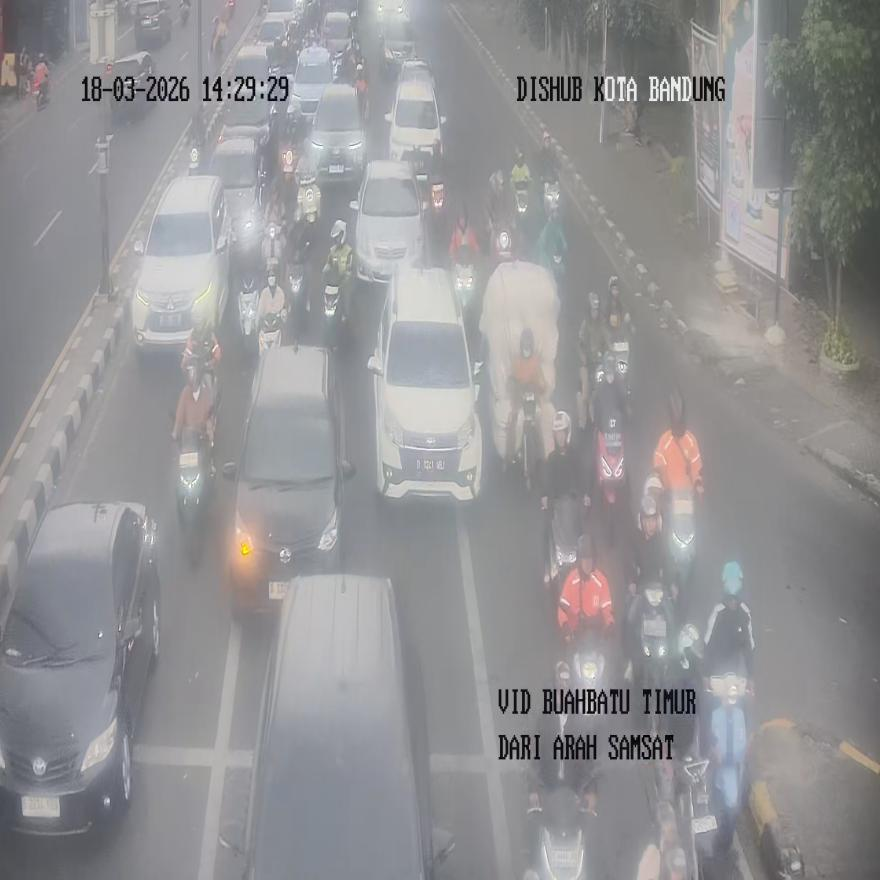Mobil: (218, 576, 455, 878), (0, 499, 160, 835), (221, 343, 354, 616), (368, 266, 482, 501), (132, 174, 231, 350), (351, 159, 426, 283), (386, 56, 446, 176)
Motor: (525, 758, 597, 880), (175, 423, 214, 560), (514, 390, 542, 492), (286, 262, 308, 342), (237, 276, 259, 356), (324, 277, 345, 347), (453, 262, 475, 318), (298, 173, 320, 228), (32, 65, 49, 110), (543, 178, 560, 220)
